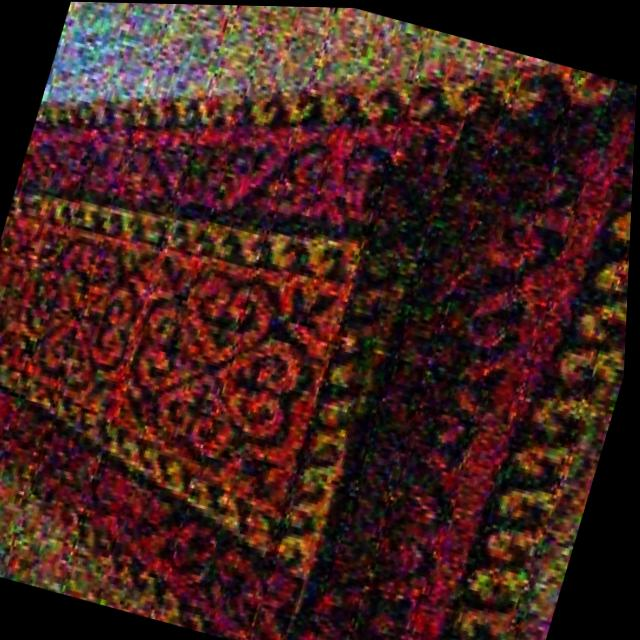Unity: (109, 249, 335, 512), (13, 221, 155, 411)
